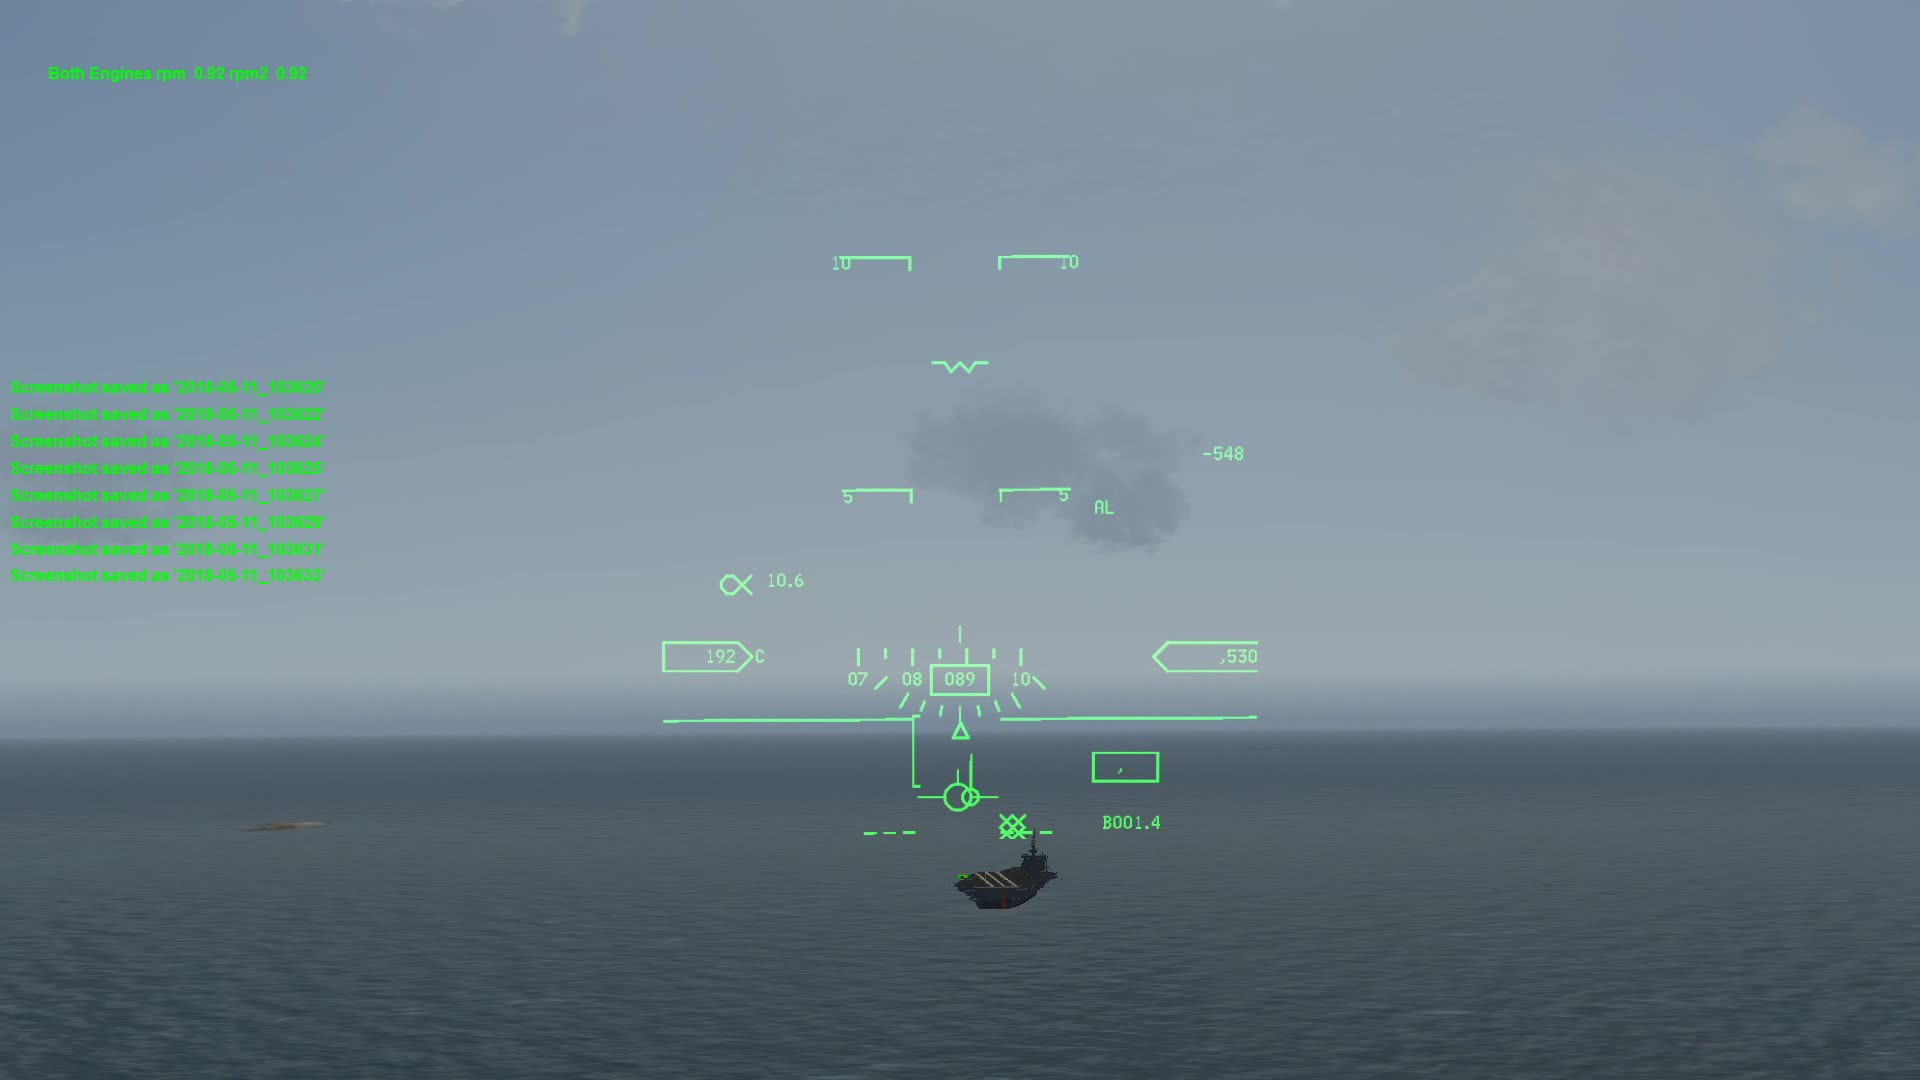speed vector: (935, 779, 986, 818)
